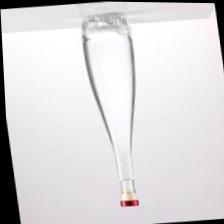glass: (77, 11, 156, 212)
